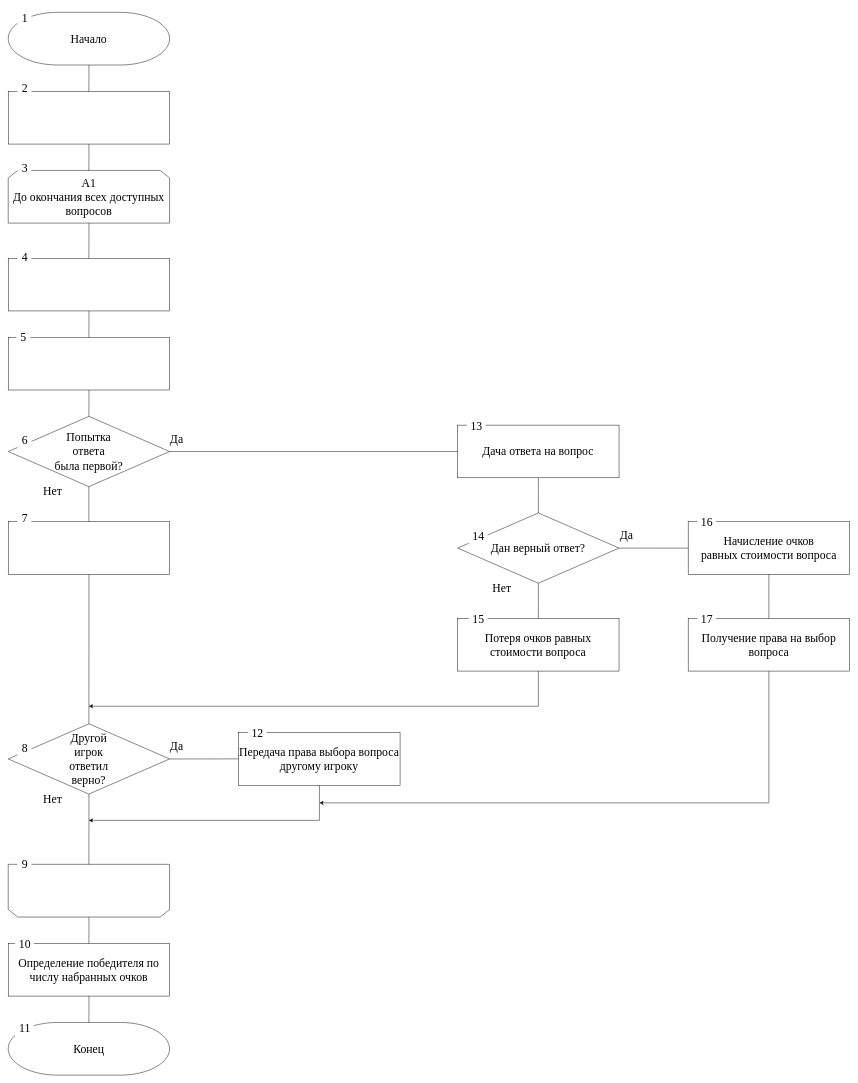
The diagram is 858 pixels wide and 1083 high, and some of its shapes have lost their labels. Here are the shapes that lost their labels. From the top down, the centre of each, then its label:
point 89,117: Получение информации о списке доступных вопросов
point 89,284: Ожидание получения права на выбор вопроса
point 89,363: Выбор вопроса из списка
point 89,547: Пропуск ответа на вопрос
point 89,890: А1
